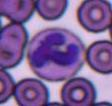N: (28, 27, 85, 81)
